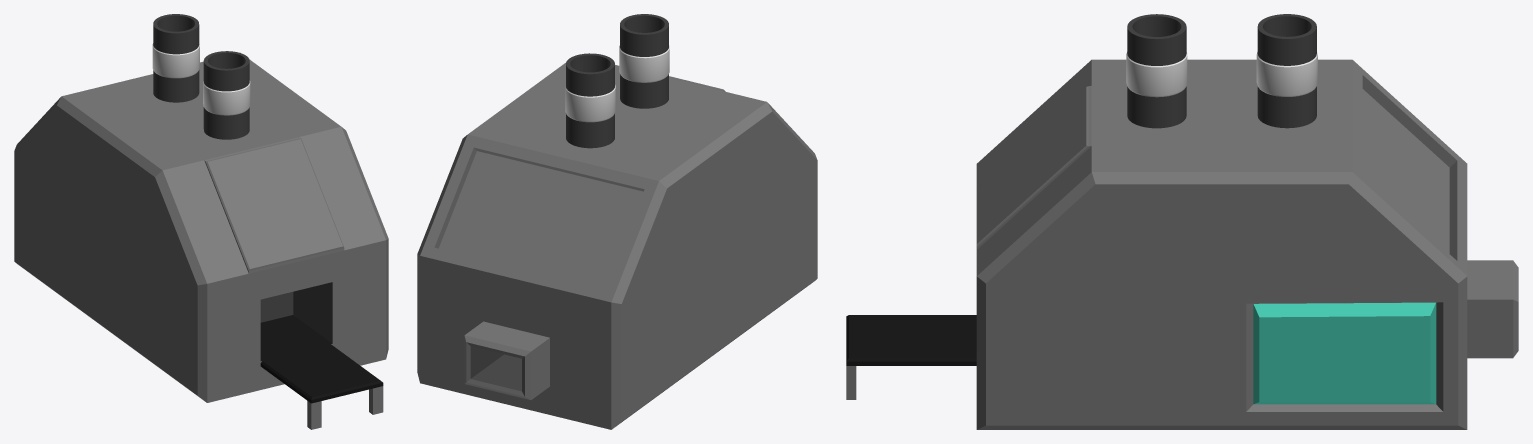
Rendered from Seed_Fuser.fbx.
3 renders of one model, left to right at view 1: azimuth 30°, elevation 25°; view 2: azimuth 150°, elevation 25°; view 3: azimuth 270°, elevation 25°, orthographic. The views are drawn at different scales.
Parts seen in each view (by area): view 1: Base, Plate, Tubes, Inside, Paper; view 2: Base, Tubes, Paper, Inside; view 3: Base, screen, Tubes, Plate, Paper.
Part boxes in pixels (x1=…): Base: x1=14, y1=52, x2=388, y2=429; Plate: x1=260, y1=315, x2=383, y2=403; Tubes: x1=153, y1=14, x2=249, y2=139; Inside: x1=260, y1=282, x2=332, y2=343; Paper: x1=152, y1=43, x2=250, y2=115; Base: x1=417, y1=63, x2=817, y2=429; Tubes: x1=566, y1=14, x2=668, y2=148; Paper: x1=565, y1=45, x2=669, y2=122; Inside: x1=470, y1=346, x2=521, y2=391; Base: x1=846, y1=59, x2=1518, y2=429; screen: x1=1253, y1=302, x2=1436, y2=404; Tubes: x1=1127, y1=14, x2=1316, y2=128; Plate: x1=846, y1=315, x2=976, y2=365; Paper: x1=1126, y1=52, x2=1317, y2=97.
Bounding box in the file's own units: 473 × 203 × 272.
